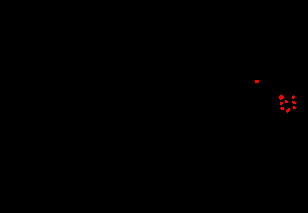Target: (279, 95, 284, 100), (286, 108, 290, 113), (255, 80, 259, 83), (292, 95, 295, 99), (292, 101, 296, 104), (280, 107, 284, 110), (285, 100, 288, 103), (280, 102, 283, 105), (293, 106, 296, 109)
